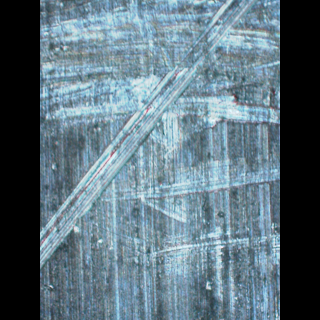d: (39, 0, 278, 126), (114, 154, 278, 290), (39, 142, 128, 276)
